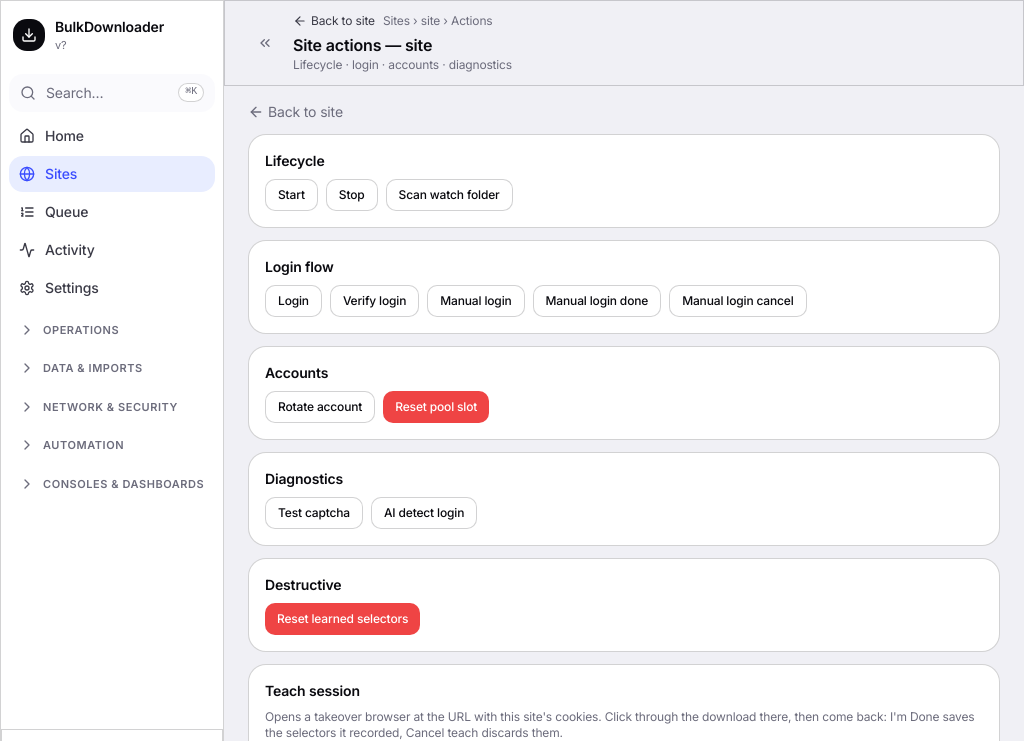
Test: watch-folder scan action › replaces an earlier success with the next HTTP error
Click the button "Scan watch folder": x=449, y=195 x1=386 y1=179 x2=513 y2=211
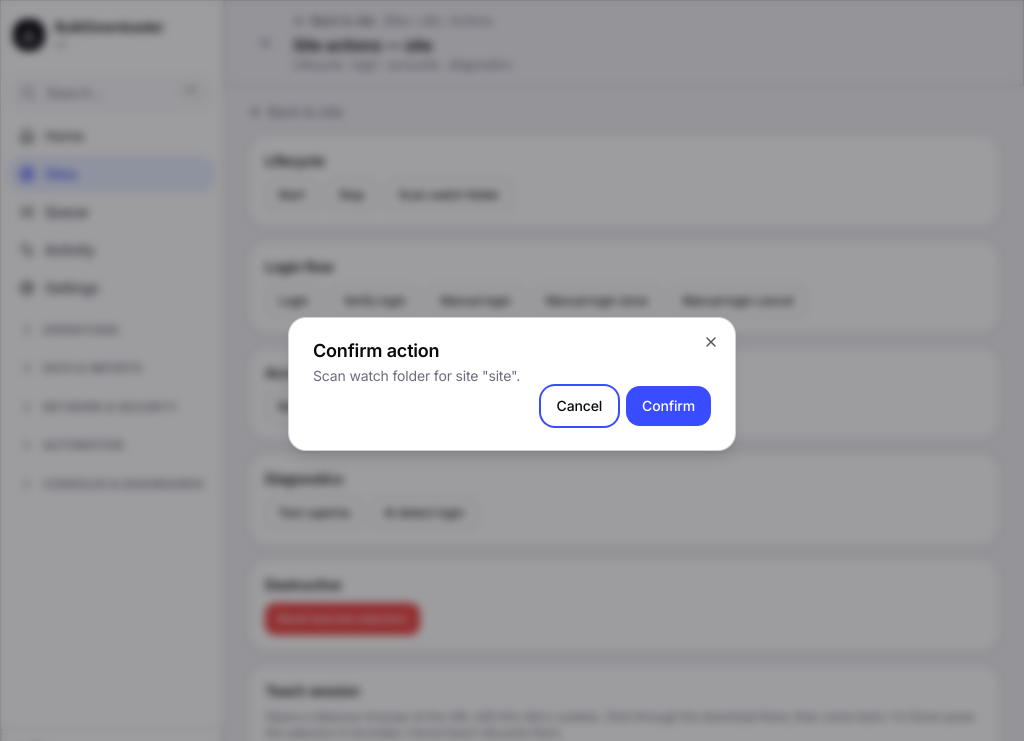
Click the button "Confirm": x=669, y=406 x1=626 y1=386 x2=711 y2=426
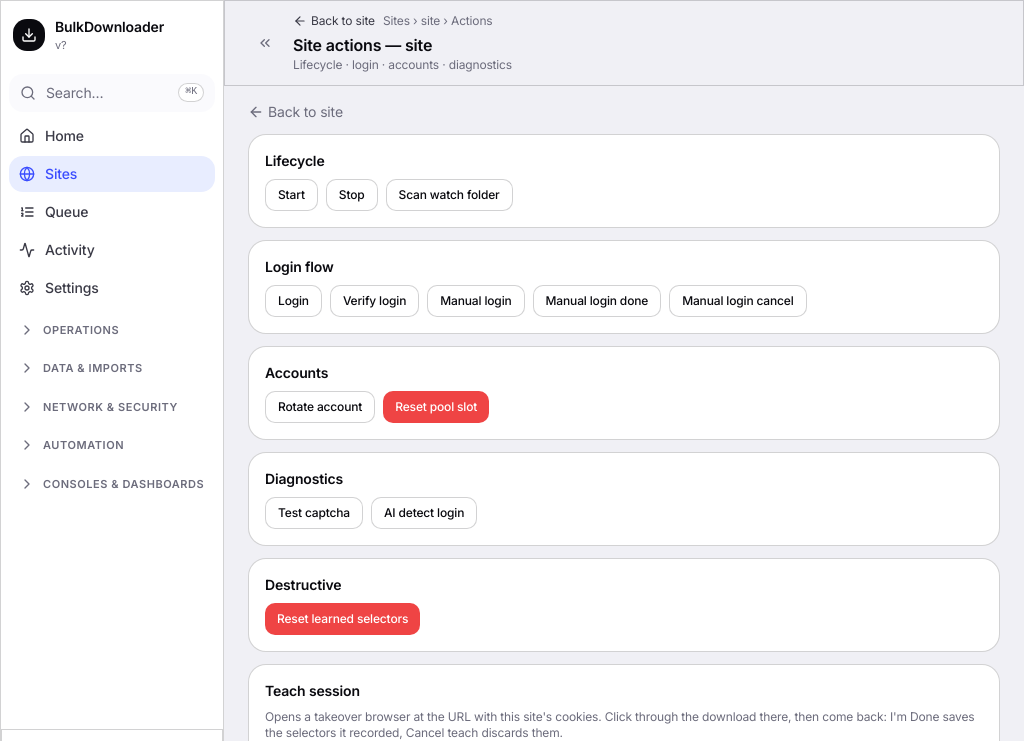
Click the button "Scan watch folder": x=449, y=195 x1=386 y1=179 x2=513 y2=211
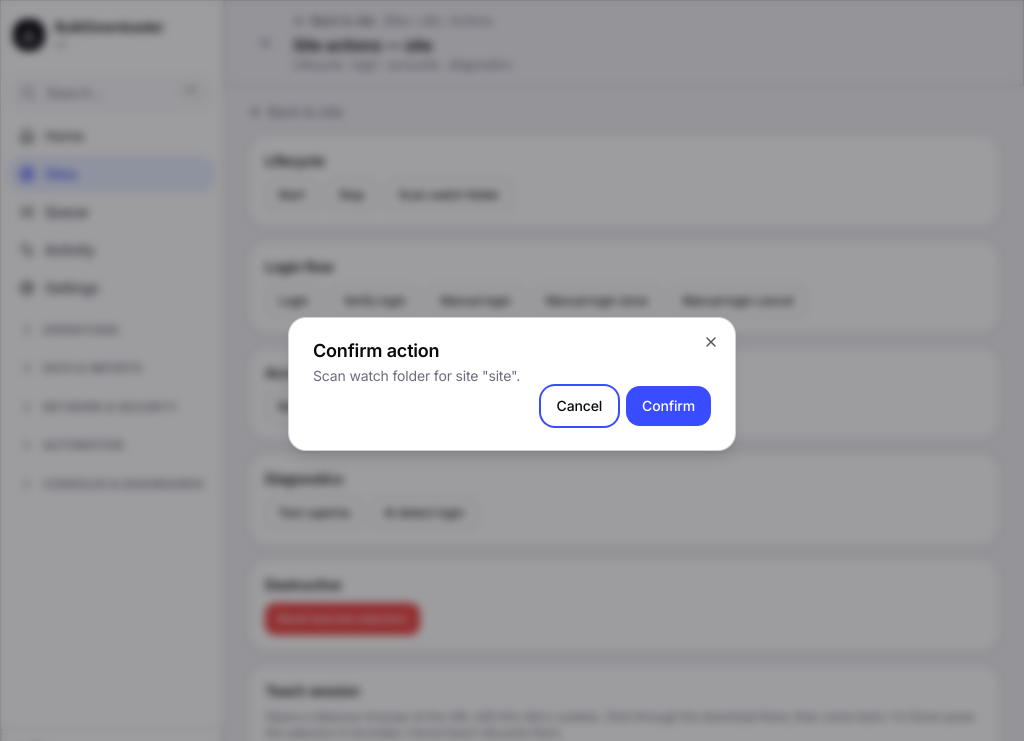
Click the button "Confirm": x=669, y=406 x1=626 y1=386 x2=711 y2=426
(page scrolled)
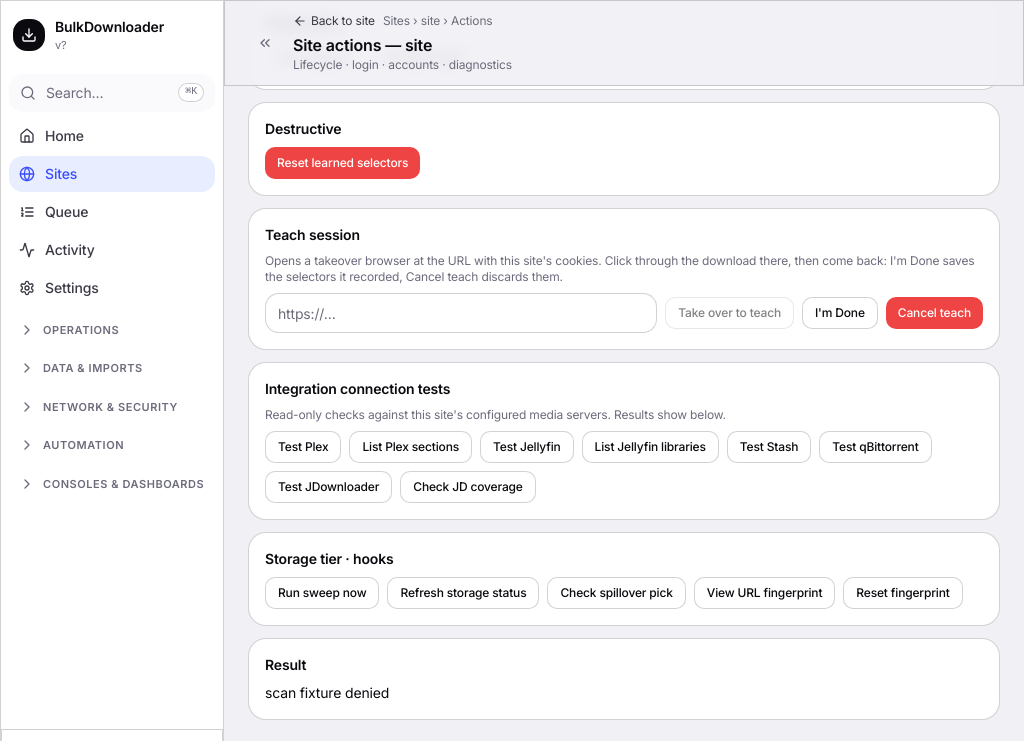
Result: the message reads "scan fixture denied" at x1=265 y1=684 x2=389 y2=701
